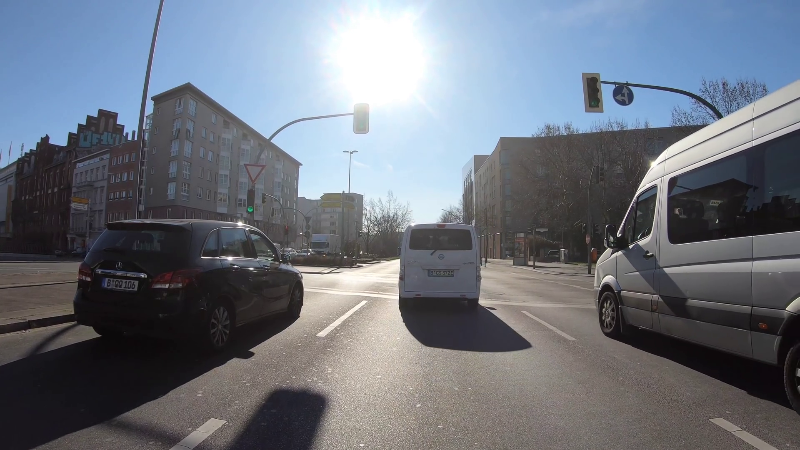Plate: (97, 277, 141, 294), (425, 268, 457, 279)
